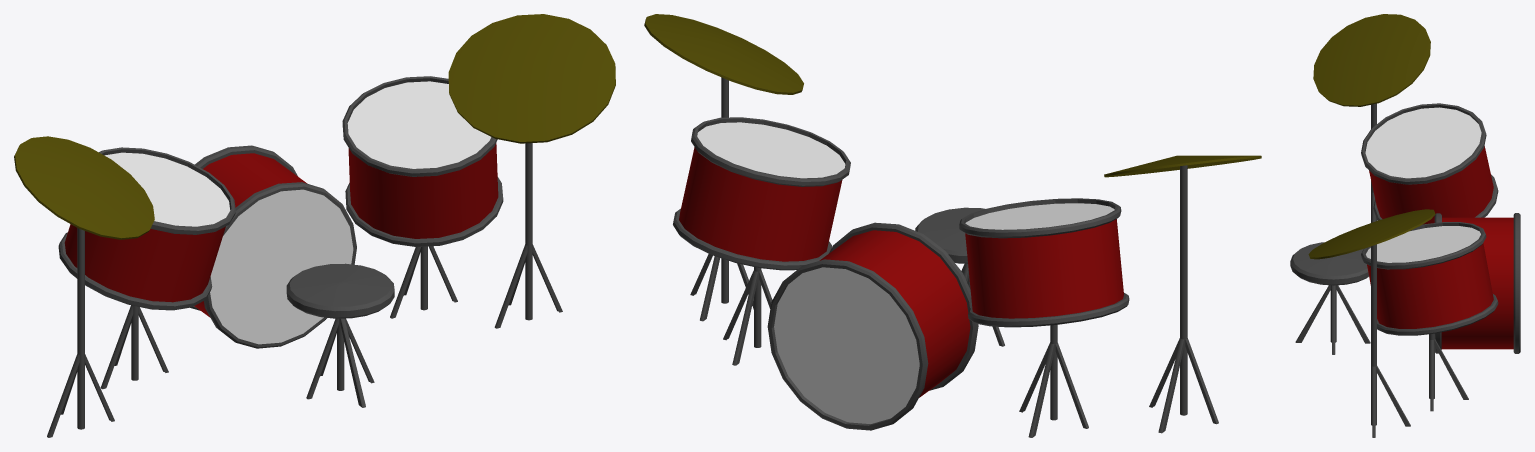
File: drumSet.fbx
The picture shows the model from 3 angles, left to right: view 1: azimuth 30°, elevation 25°; view 2: azimuth 150°, elevation 25°; view 3: azimuth 270°, elevation 25°; orthographic projection. The views are drawn at different scales.
Parts seen in each view (by area): view 1: pCylinder2, pCylinder1, pCylinder4, pCylinder3, pCylinder10, pCylinder6, pCylinder9, pCylinder5, pCylinder7, pCylinder8; view 2: pCylinder1, pCylinder2, pCylinder3, pCylinder4, pCylinder9, pCylinder7, pCylinder6, pCylinder8, pCylinder5, pCylinder10; view 3: pCylinder3, pCylinder2, pCylinder10, pCylinder1, pCylinder6, pCylinder4, pCylinder5, pCylinder8, pCylinder9.
Boxes of the visible parts, x1=… form: pCylinder2: x1=342, y1=76, x2=503, y2=246; pCylinder1: x1=190, y1=145, x2=356, y2=348; pCylinder4: x1=448, y1=14, x2=615, y2=143; pCylinder3: x1=58, y1=147, x2=235, y2=310; pCylinder10: x1=14, y1=136, x2=154, y2=239; pCylinder6: x1=286, y1=263, x2=394, y2=407; pCylinder9: x1=47, y1=228, x2=114, y2=437; pCylinder5: x1=494, y1=143, x2=562, y2=328; pCylinder7: x1=100, y1=305, x2=168, y2=389; pCylinder8: x1=390, y1=246, x2=457, y2=318; pCylinder1: x1=767, y1=222, x2=978, y2=430; pCylinder2: x1=673, y1=117, x2=850, y2=270; pCylinder3: x1=959, y1=198, x2=1129, y2=327; pCylinder4: x1=644, y1=14, x2=803, y2=94; pCylinder9: x1=1149, y1=165, x2=1218, y2=433; pCylinder7: x1=1019, y1=325, x2=1088, y2=437; pCylinder6: x1=915, y1=207, x2=1004, y2=346; pCylinder8: x1=723, y1=267, x2=772, y2=365; pCylinder5: x1=690, y1=77, x2=753, y2=321; pCylinder10: x1=1104, y1=155, x2=1261, y2=177; pCylinder3: x1=1361, y1=103, x2=1498, y2=224; pCylinder2: x1=1361, y1=222, x2=1498, y2=335; pCylinder10: x1=1313, y1=14, x2=1430, y2=106; pCylinder1: x1=1434, y1=213, x2=1520, y2=353; pCylinder6: x1=1290, y1=242, x2=1370, y2=354; pCylinder4: x1=1308, y1=209, x2=1435, y2=259; pCylinder5: x1=1371, y1=244, x2=1410, y2=437; pCylinder8: x1=1429, y1=333, x2=1468, y2=411; pCylinder9: x1=1371, y1=103, x2=1376, y2=222.
Bounding box in the file's own units: 1.78 × 0.8131 × 0.7639.
